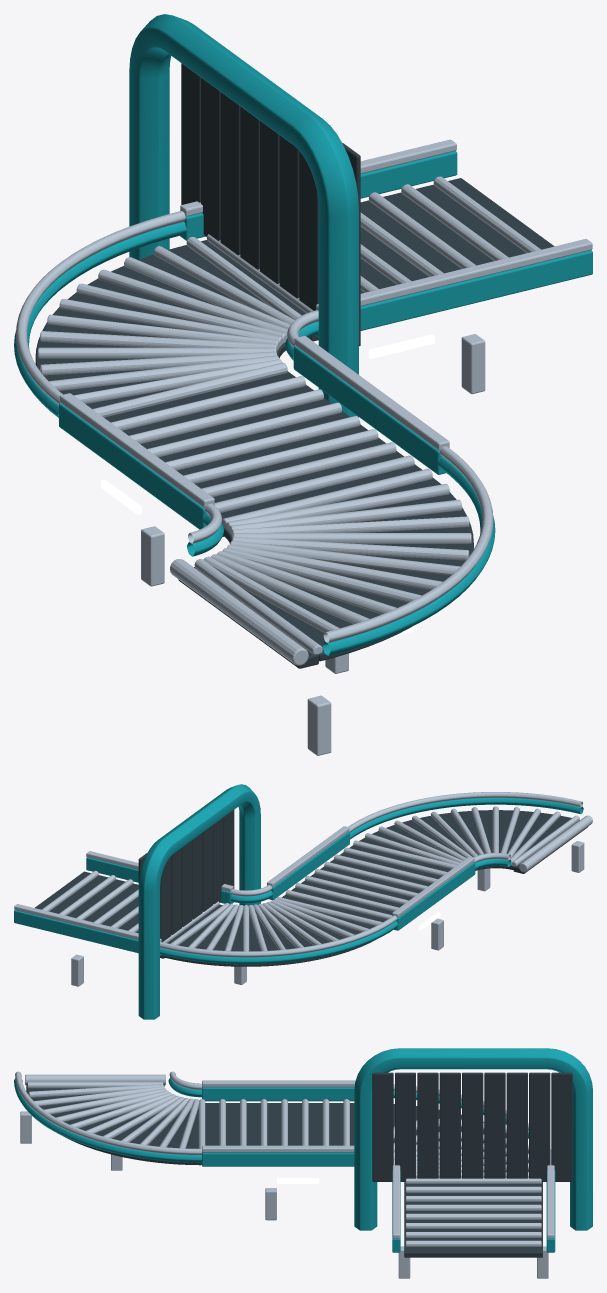
The model's file is depot_02_curtain.fbx.
The picture shows the model from 3 angles, top to bottom: view 1: azimuth 30°, elevation 25°; view 2: azimuth 150°, elevation 25°; view 3: azimuth 270°, elevation 25°; orthographic projection. The views are drawn at different scales.
Visible parts, largest first — view 1: D02_Module_Conveyor, D02_CurtainStrip_06, D02_CurtainStrip_03, D02_CurtainStrip_05, D02_CurtainStrip_04, D02_CurtainStrip_07, D02_CurtainStrip_02, D02_CurtainStrip_08; view 2: D02_Module_Conveyor, D02_CurtainStrip_02, D02_CurtainStrip_04, D02_CurtainStrip_03, D02_CurtainStrip_05, D02_CurtainStrip_00, D02_CurtainStrip_01, D02_CurtainStrip_06; view 3: D02_Module_Conveyor, D02_CurtainStrip_00, D02_CurtainStrip_08, D02_CurtainStrip_02, D02_CurtainStrip_03, D02_CurtainStrip_04, D02_CurtainStrip_05, D02_CurtainStrip_06, D02_CurtainStrip_07, D02_CurtainStrip_01.
Boxes of the visible parts, left/top/right/bottom form: D02_Module_Conveyor: left=14, top=14, right=592, bottom=755; D02_CurtainStrip_06: left=220, top=92, right=240, bottom=255; D02_CurtainStrip_03: left=279, top=135, right=299, bottom=298; D02_CurtainStrip_05: left=240, top=106, right=259, bottom=269; D02_CurtainStrip_04: left=260, top=121, right=279, bottom=283; D02_CurtainStrip_07: left=201, top=78, right=220, bottom=240; D02_CurtainStrip_02: left=299, top=151, right=318, bottom=310; D02_CurtainStrip_08: left=181, top=63, right=200, bottom=204; D02_Module_Conveyor: left=14, top=784, right=592, bottom=1019; D02_CurtainStrip_02: left=202, top=825, right=213, bottom=911; D02_CurtainStrip_04: left=182, top=840, right=192, bottom=926; D02_CurtainStrip_03: left=192, top=833, right=202, bottom=919; D02_CurtainStrip_05: left=171, top=848, right=181, bottom=934; D02_CurtainStrip_00: left=223, top=810, right=234, bottom=888; D02_CurtainStrip_01: left=213, top=817, right=223, bottom=904; D02_CurtainStrip_06: left=161, top=856, right=171, bottom=942; D02_Module_Conveyor: left=14, top=1048, right=592, bottom=1278; D02_CurtainStrip_00: left=372, top=1072, right=393, bottom=1181; D02_CurtainStrip_08: left=551, top=1072, right=572, bottom=1181; D02_CurtainStrip_02: left=417, top=1072, right=438, bottom=1178; D02_CurtainStrip_03: left=439, top=1072, right=460, bottom=1178; D02_CurtainStrip_04: left=462, top=1072, right=483, bottom=1178; D02_CurtainStrip_05: left=484, top=1072, right=505, bottom=1178; D02_CurtainStrip_06: left=506, top=1072, right=527, bottom=1178; D02_CurtainStrip_07: left=529, top=1072, right=550, bottom=1181; D02_CurtainStrip_01: left=395, top=1072, right=415, bottom=1181.
Bounding box in the file's own units: 769 × 376 × 1087.
